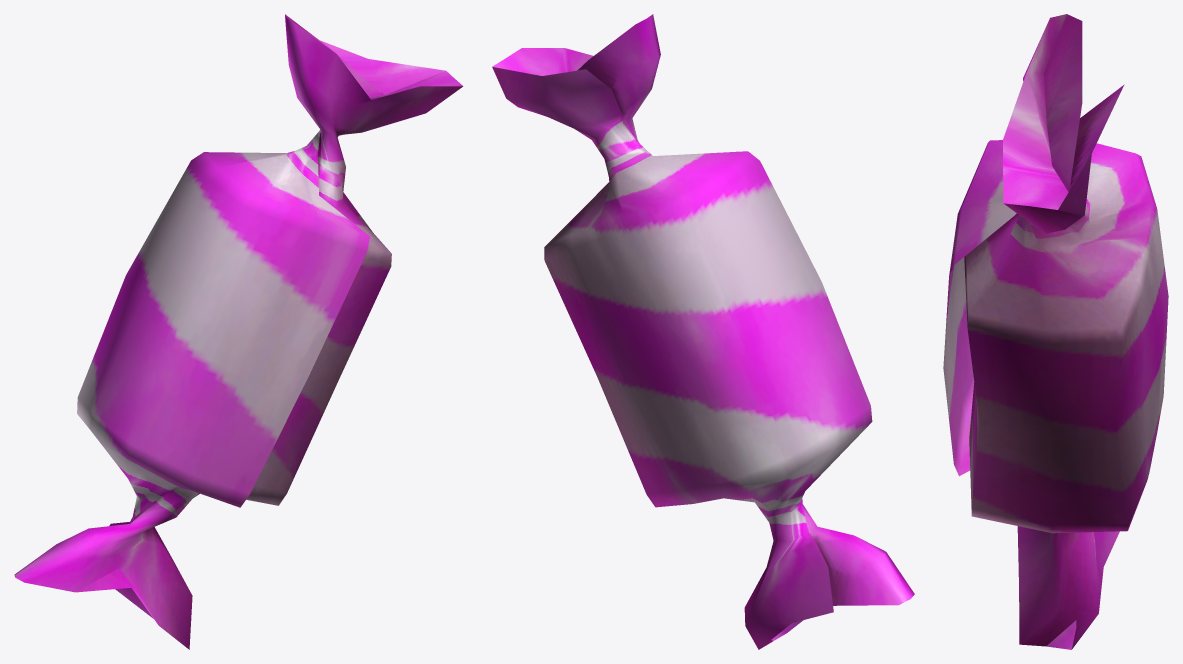
Rendered from item_糖果2.fbx.
3 renders of one model, left to right at view 1: azimuth 30°, elevation 25°; view 2: azimuth 150°, elevation 25°; view 3: azimuth 270°, elevation 25°, orthographic. The views are drawn at different scales.
Parts seen in each view (by area): view 1: node_id43; view 2: node_id43; view 3: node_id43.
Boxes of the visible parts, x1=… form: node_id43: x1=14, y1=14, x2=463, y2=649; node_id43: x1=492, y1=14, x2=914, y2=649; node_id43: x1=943, y1=14, x2=1168, y2=649.
Bounding box in the file's own units: 6.98 × 9.37 × 2.73.
1 material, 1 textured.
